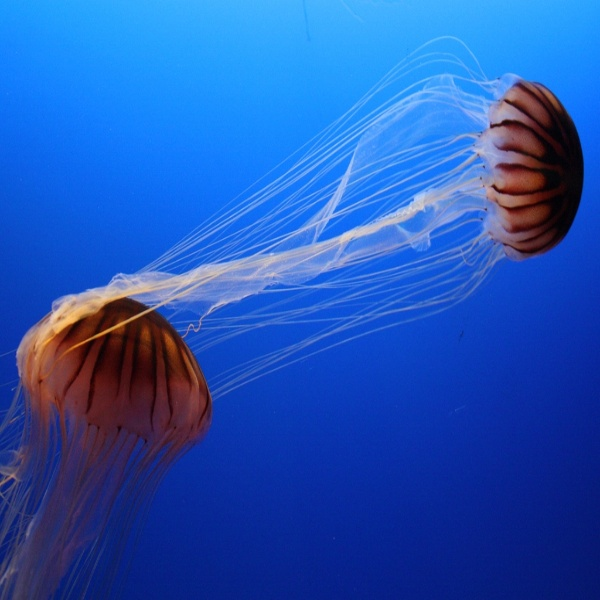Jellyfish: (33, 36, 584, 402), (0, 289, 212, 599)
